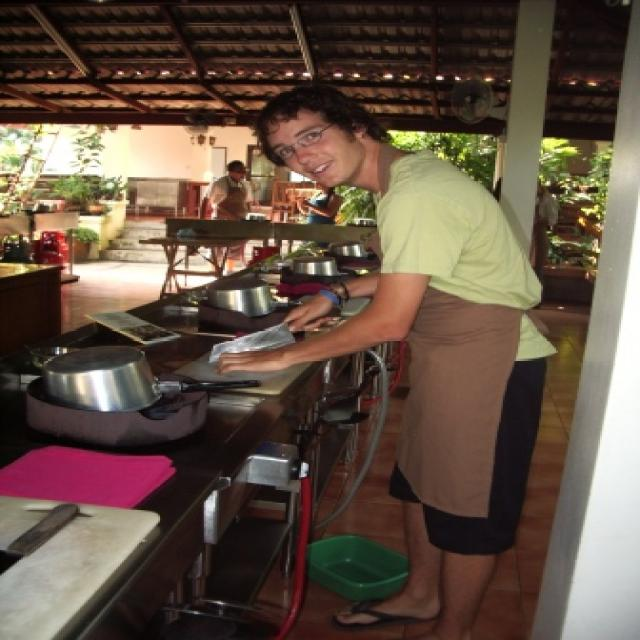diningtable: (140, 234, 251, 302)
person: (218, 85, 550, 640), (198, 160, 255, 277), (292, 181, 342, 225)
pottedplant: (62, 228, 98, 265)
